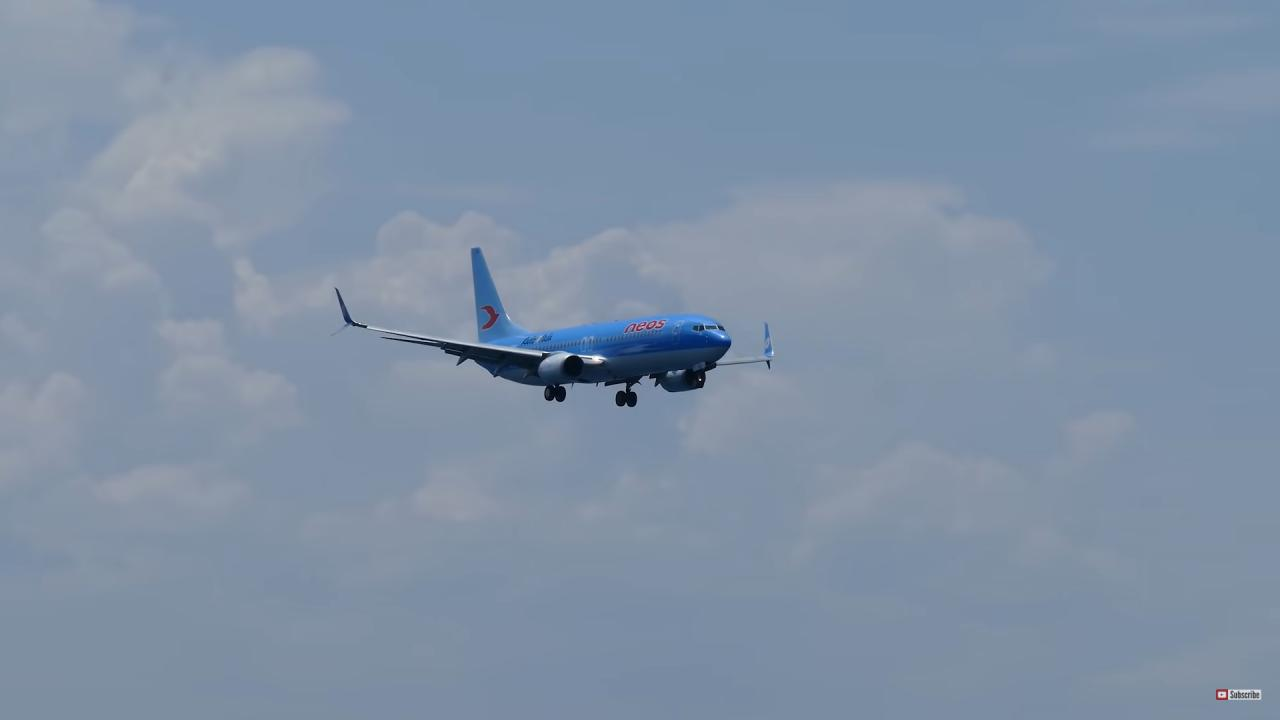Airplane: (309, 230, 792, 424)
